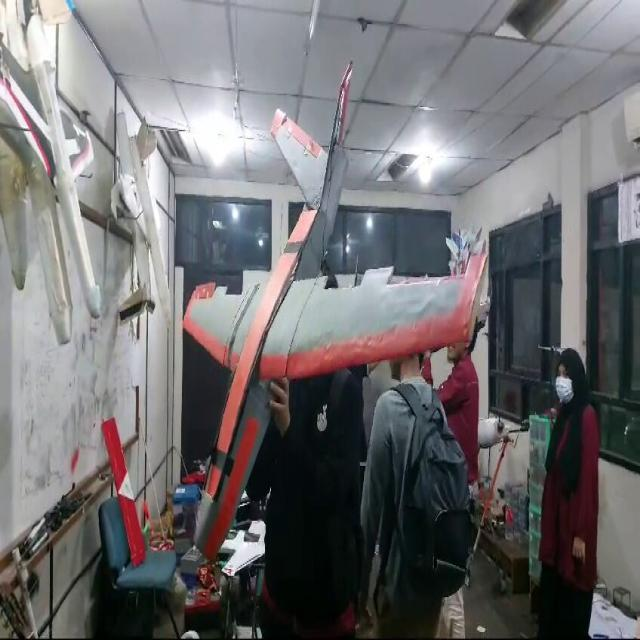plane: (180, 58, 490, 561)
